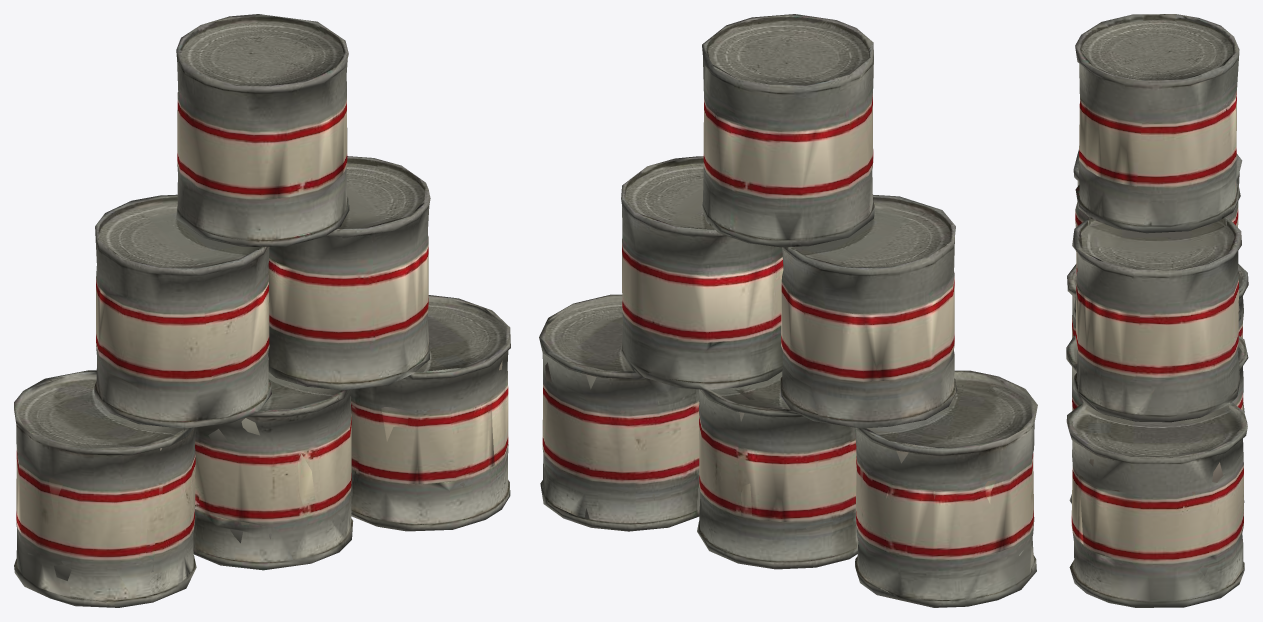
Rendered from tin-cans.glb.
The picture shows the model from 3 angles, left to right: view 1: azimuth 30°, elevation 25°; view 2: azimuth 150°, elevation 25°; view 3: azimuth 270°, elevation 25°; orthographic projection. The views are drawn at different scales.
Visible parts, largest first — view 1: Mesh_0.001; view 2: Mesh_0.001; view 3: Mesh_0.001.
Boxes of the visible parts, <box> form: Mesh_0.001: <box>14,14,510,607</box>; Mesh_0.001: <box>539,14,1037,607</box>; Mesh_0.001: <box>1066,14,1248,607</box>.
Size of the model in its own units: 1.53 by 1.5 by 0.5455.
Materials: 1 (1 with a texture image).
